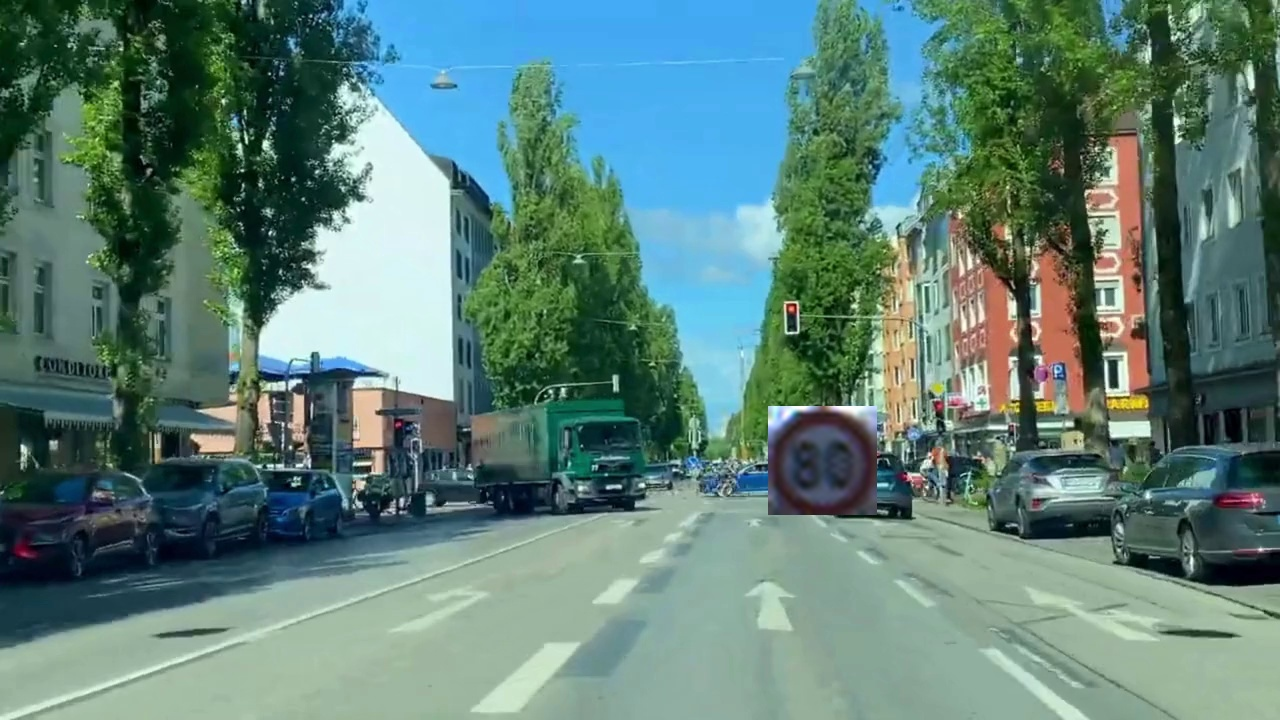Speed 80: (768, 406, 877, 515)
